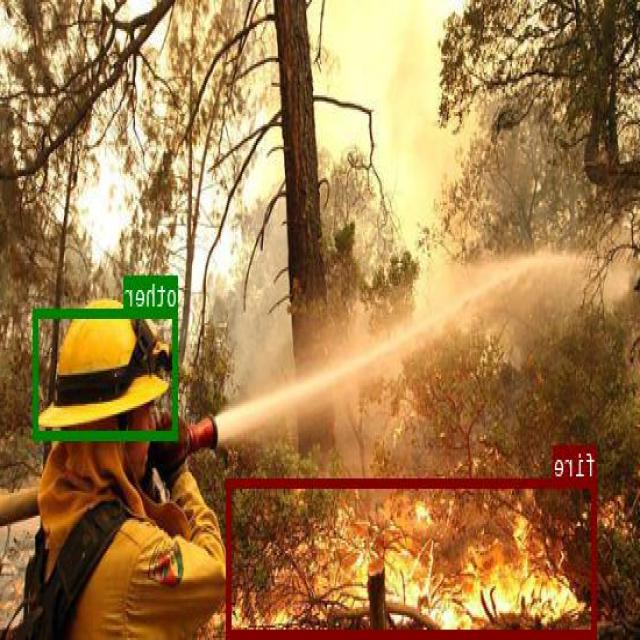fire: (228, 478, 598, 636)
other: (34, 308, 178, 438)
